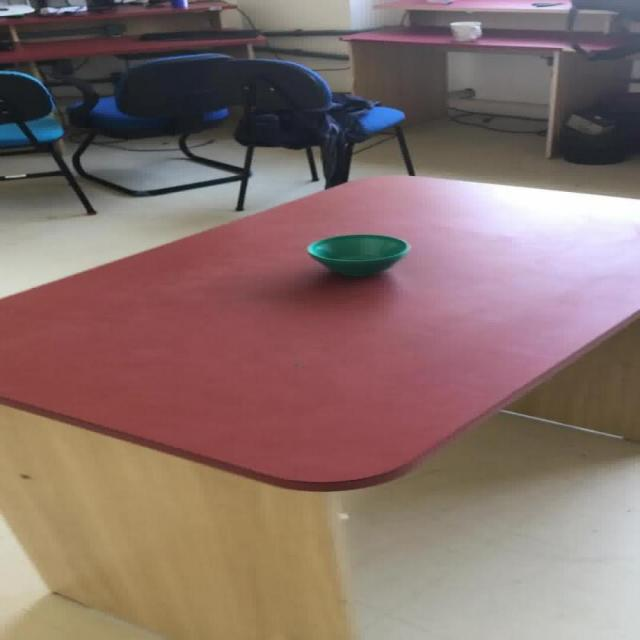Bowl: (305, 233, 410, 277)
